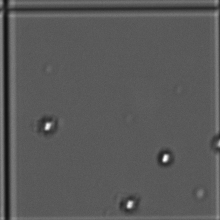Living Cell: (159, 150, 174, 166), (123, 198, 139, 210), (41, 120, 53, 132)
